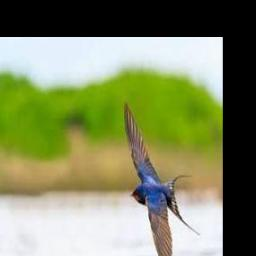Swallow: (125, 100, 200, 256)
